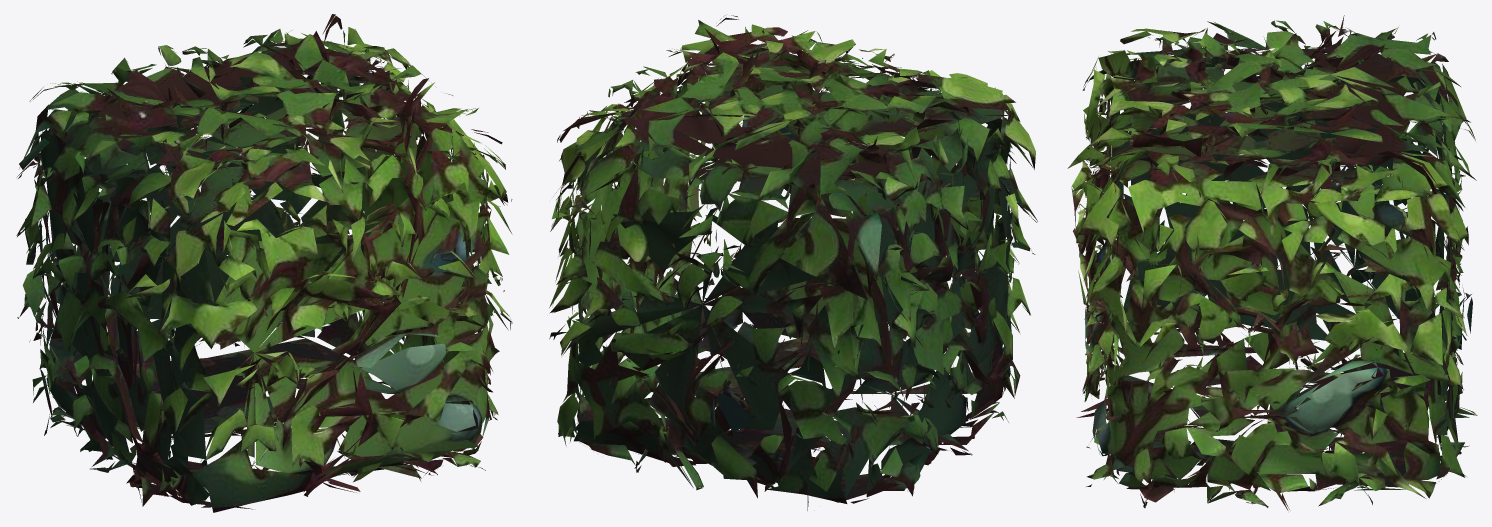
File: diken_citi.glb
3 renders of one model, left to right at view 1: azimuth 30°, elevation 25°; view 2: azimuth 150°, elevation 25°; view 3: azimuth 270°, elevation 25°, orthographic. The views are drawn at different scales.
Parts seen in each view (by area): view 1: geometry_0; view 2: geometry_0; view 3: geometry_0.
Boxes of the visible parts, x1,y1,x2,y2 form: geometry_0: (16,14,512,512); geometry_0: (549,15,1037,510); geometry_0: (1067,15,1477,510).
Size of the model in its own units: 0.9879 by 0.9271 by 0.9278.
1 material, 1 textured.
